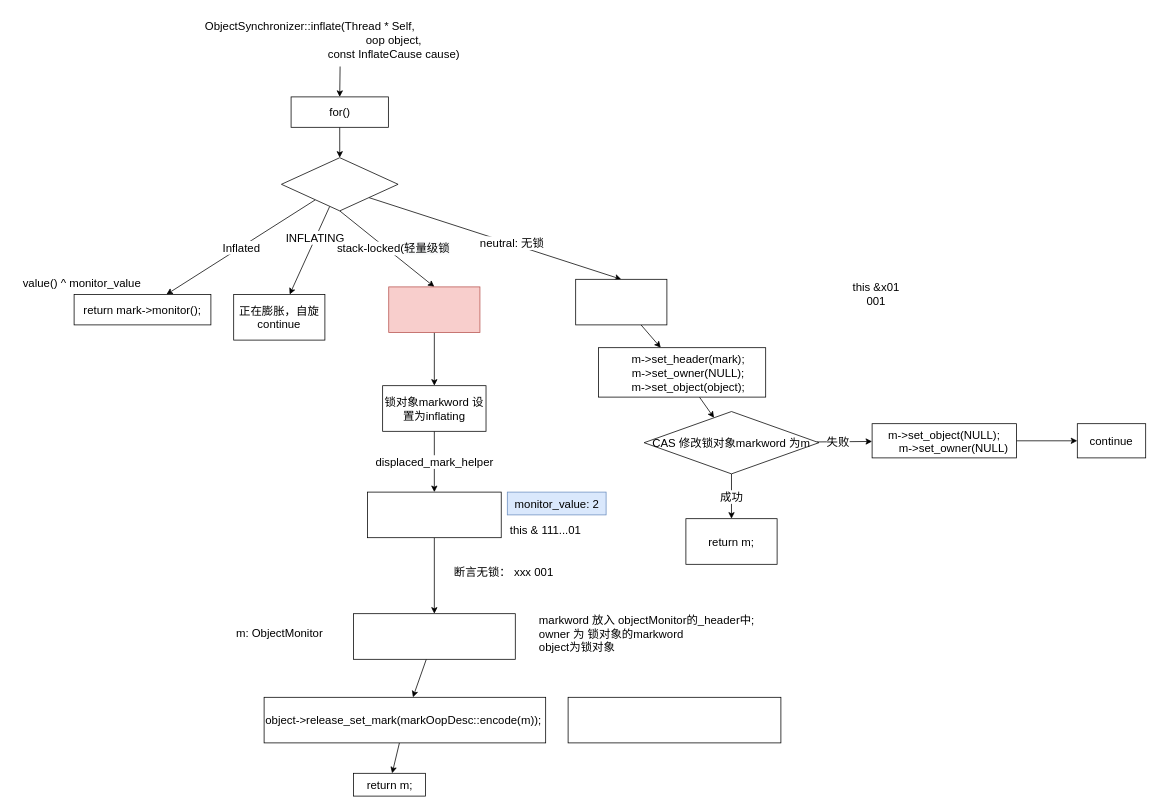
Image size: 1159x809. Some labels were removed from this diagram. The shapes that lost their labels are listed below. From the top down, each one's centre as x and y in pixels, then its label:
At (x=339, y=184): "锁对象markword状态".
At (x=434, y=309): "创建ObjectMonitor对象".
At (x=621, y=302): "创建ObjectMonitor".
At (x=434, y=514): "设置markword：this & ~monitor_value".
At (x=434, y=636): "m->set_header(dmw); m->set_owner(mark->locker()); m->set_object(object);".
At (x=674, y=720): "重置object 中的_o 属性，并将markword对象设置为：m | monitor_value".
